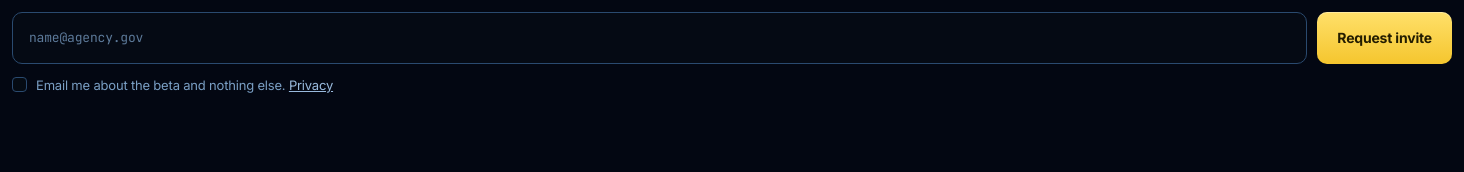
Test: BetaForm › shows the validation message on {ok:false, error:"invalid"}
Type "a@agency.gov" into the field named "email" at (660, 38), box [12,12,1307,64]
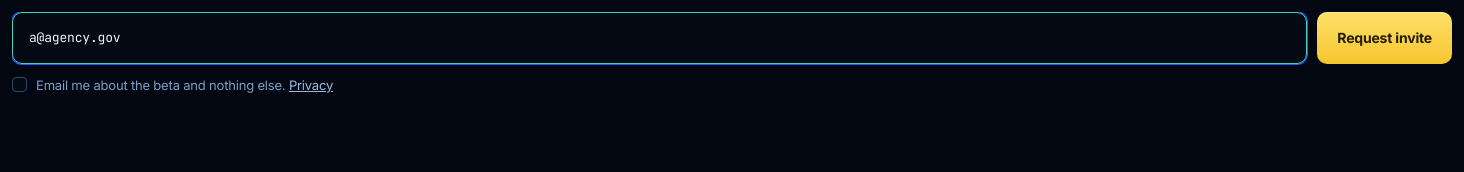
Click the checkbox at (20, 84), box [12,77,27,92]
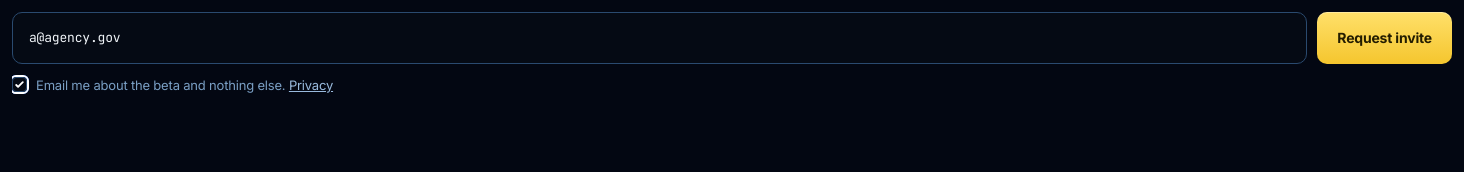
Click the button "Request invite" at (1385, 38), box [1317,12,1452,64]
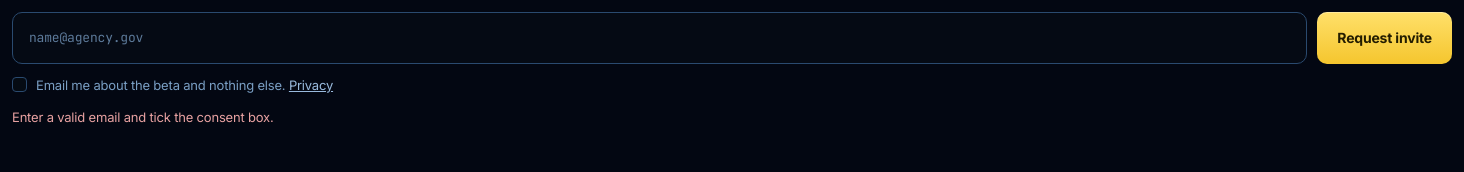
Now the text "Enter a valid email and tick the consent box." is shown, box [12,108,274,124]
